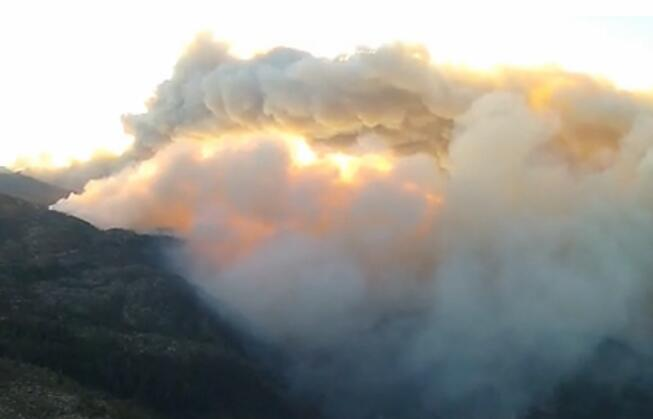yanwu: (20, 28, 651, 415)
